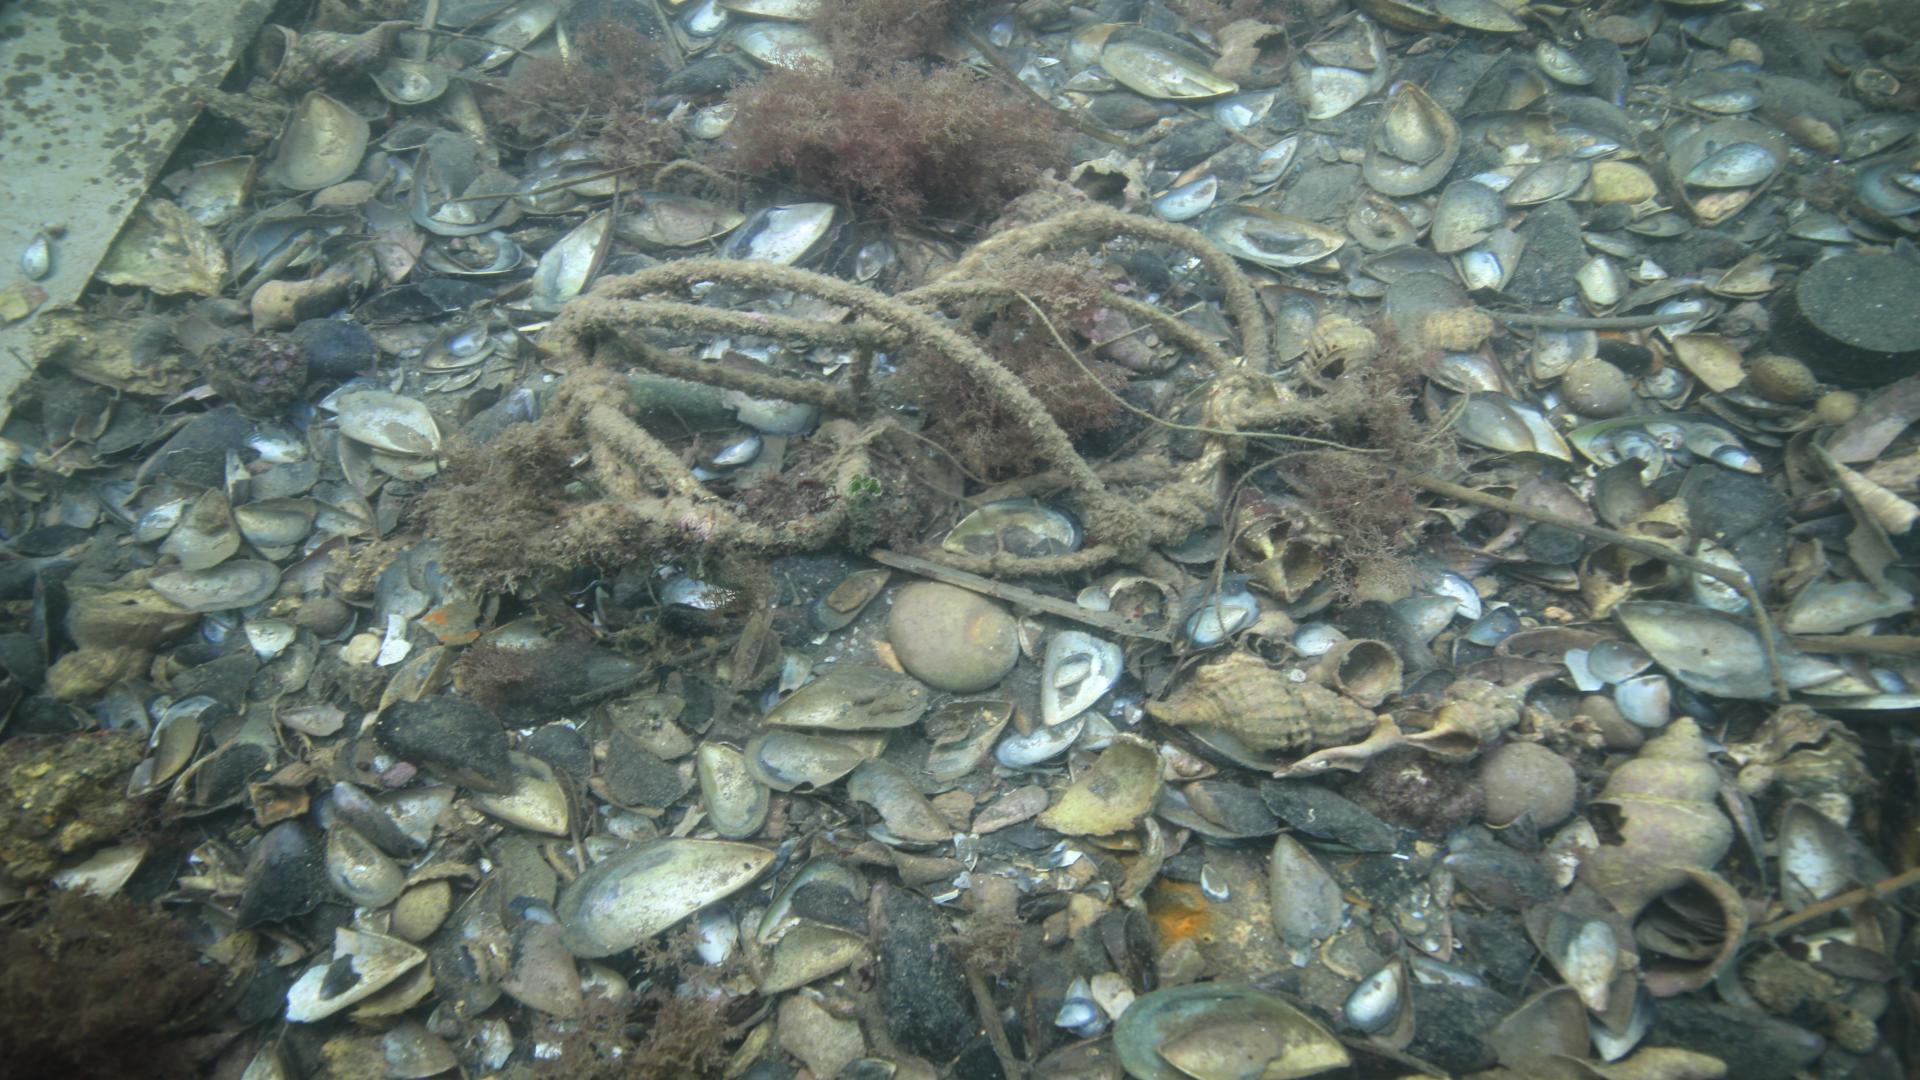bundle of ropes: (553, 200, 1324, 578)
